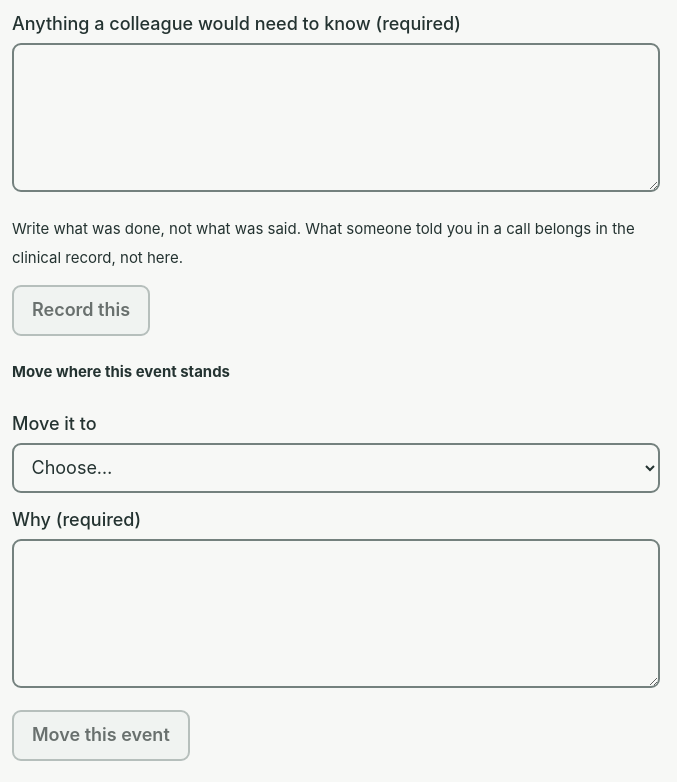
Test case: safety events › resolving says plainly that it does not mean the person is safe
The width and height of the screenshot is (677, 782).
(page scrolled)
Select "Recorded as dealt with" in the dropdown labelled "Move it to" at (336, 468), box [12, 443, 660, 492]
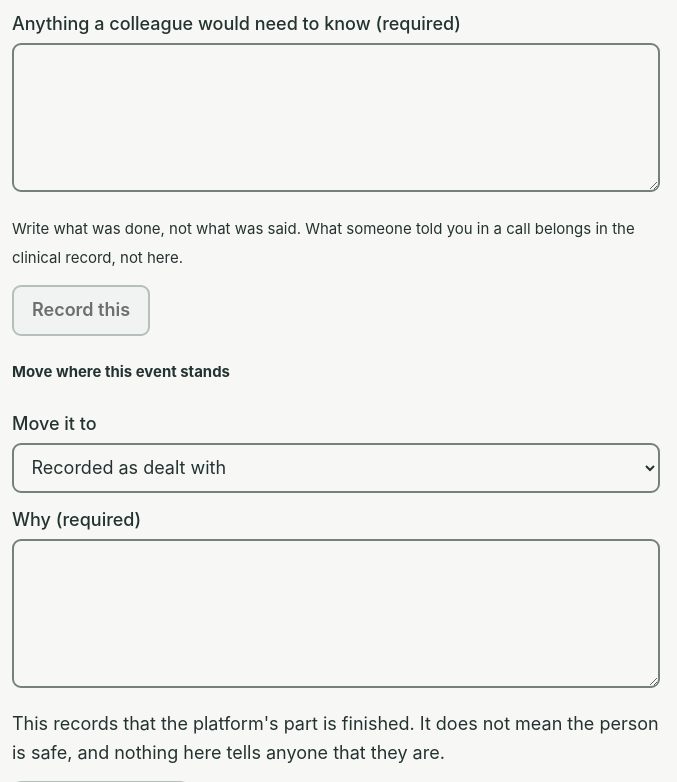
Now the text "It does not mean the person is safe" is shown, box [12, 713, 659, 763]
